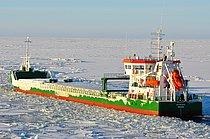Ship: (7, 50, 206, 127)
